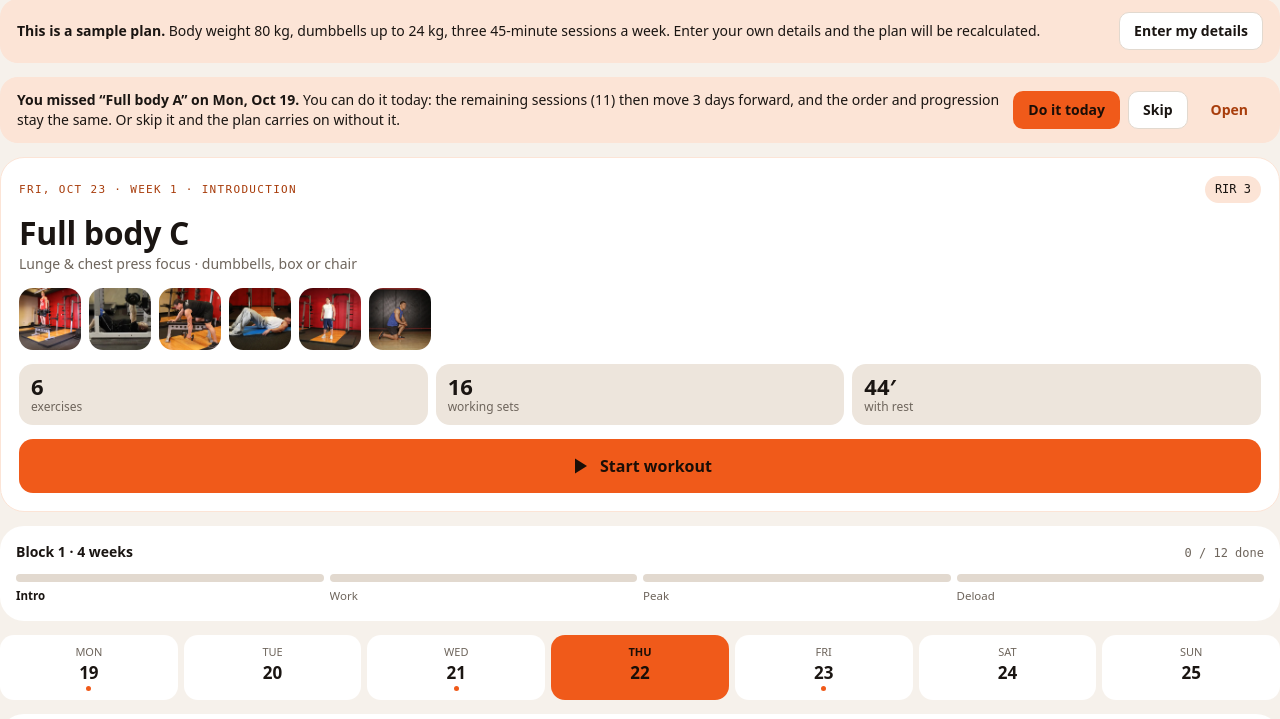
Test case: PlanScreen: missed sessions › offers to do the first missed session today or to skip it
Expected: the message shows "You missed “Full body A” on Mon, Oct 19.", left=17, top=90, right=299, bottom=109
Expected: the message shows "the remaining sessions (11) then move 3 days forward", left=17, top=90, right=999, bottom=129
Step 1. Click the button "Skip" → (1158, 110), box left=1128, top=91, right=1188, bottom=129
(page scrolled)
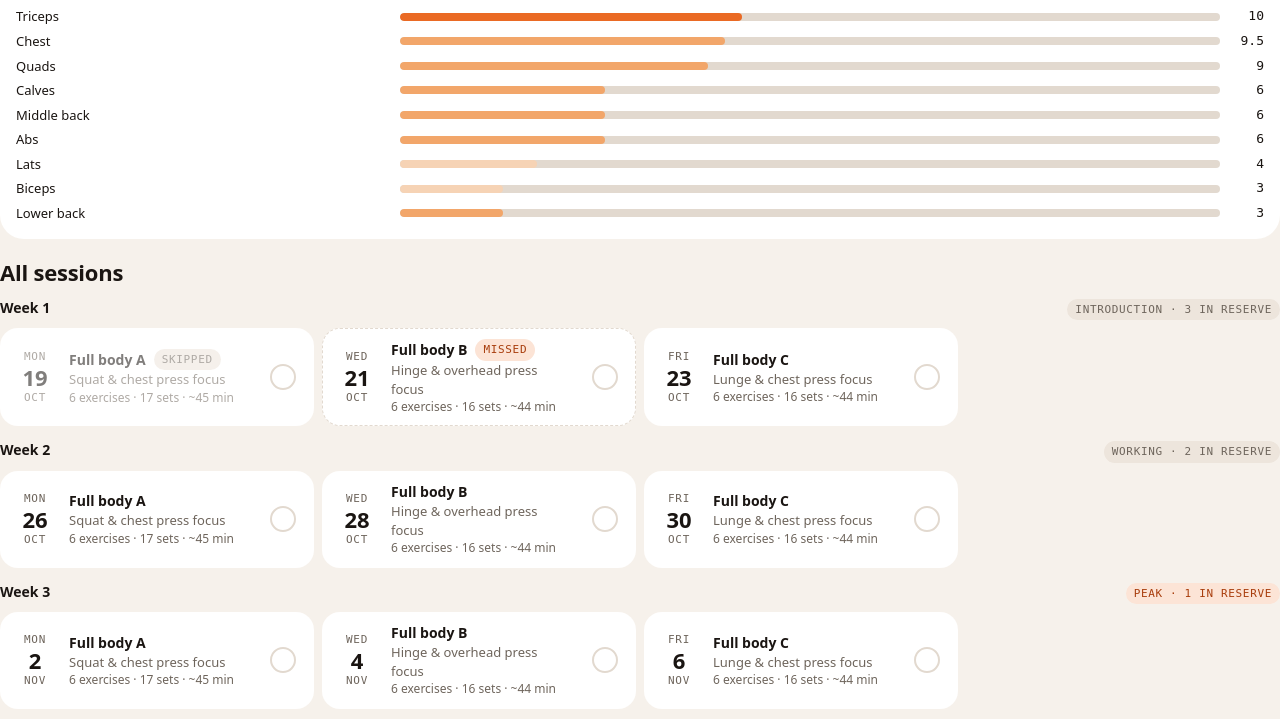
Now the text "skipped" is shown, box left=154, top=349, right=221, bottom=370
